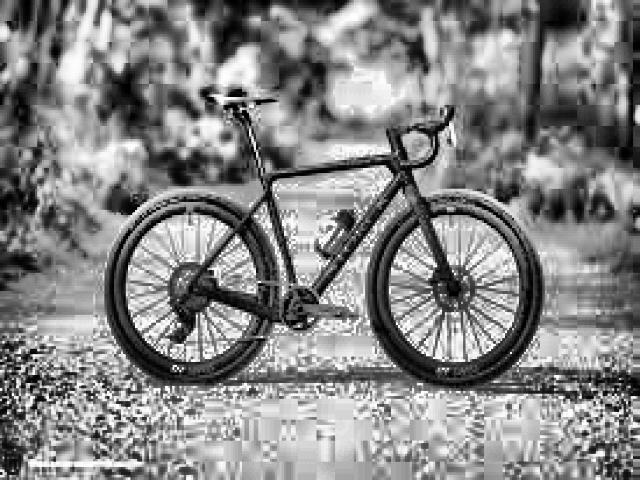cranks_set: (278, 285, 353, 335)
pedal: (332, 304, 359, 322)
rear_derailleur: (166, 293, 197, 345)
saddle: (211, 90, 277, 115)
sti_shifter: (441, 101, 463, 148)
wheel: (365, 186, 542, 390), (104, 189, 282, 387)
